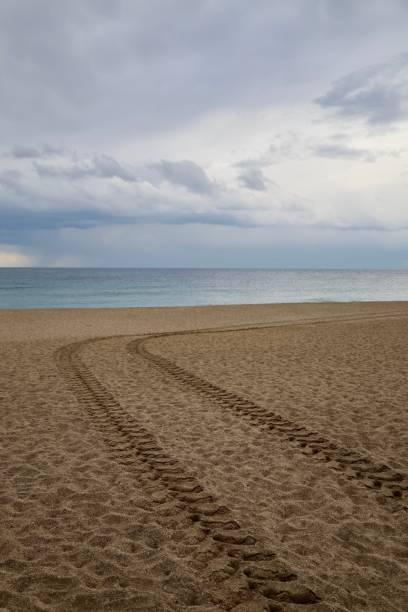vehicle_track: (57, 339, 319, 610), (128, 334, 407, 509)
